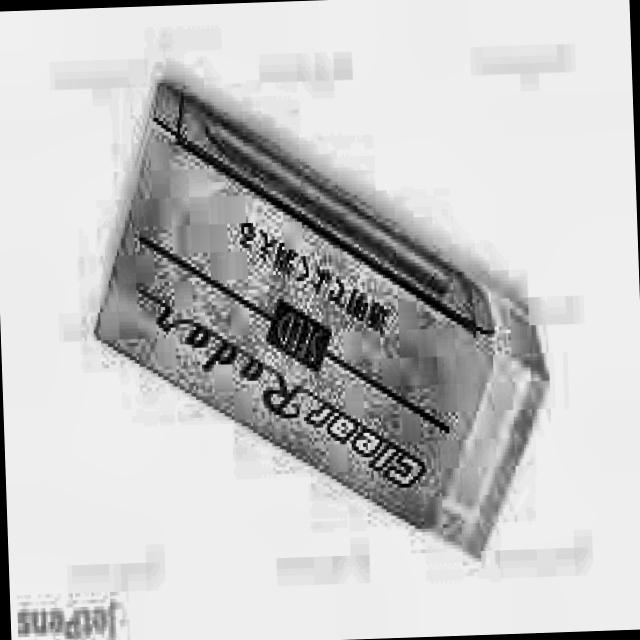eraser: (85, 62, 562, 581)
